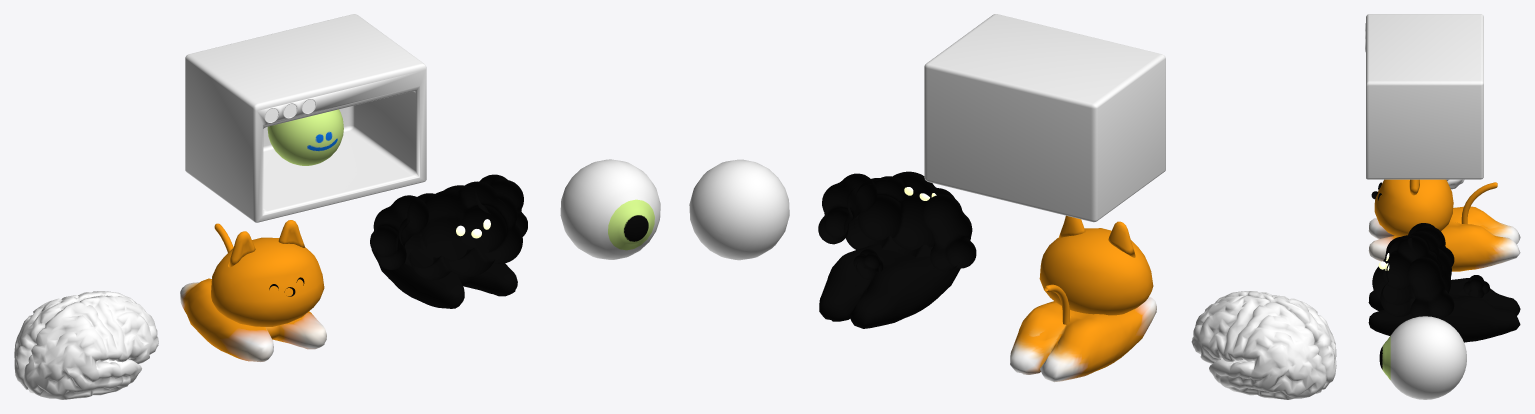
Rendered from web3d.glb.
The picture shows the model from 3 angles, left to right: view 1: azimuth 30°, elevation 25°; view 2: azimuth 150°, elevation 25°; view 3: azimuth 270°, elevation 25°; orthographic projection. The views are drawn at different scales.
Visible parts, largest first — view 1: window, dog, cat, brain, eye; view 2: window, dog, cat, brain, eye; view 3: window, dog, cat, eye.
Part boxes in pixels (bbox=[...]): window: bbox=[185, 14, 426, 222]; dog: bbox=[370, 174, 527, 308]; cat: bbox=[180, 220, 326, 361]; brain: bbox=[14, 291, 158, 399]; eye: bbox=[560, 159, 660, 259]; window: bbox=[924, 14, 1165, 222]; dog: bbox=[818, 171, 976, 328]; cat: bbox=[1010, 215, 1156, 382]; brain: bbox=[1191, 291, 1336, 399]; eye: bbox=[689, 159, 789, 260]; window: bbox=[1365, 14, 1483, 179]; dog: bbox=[1368, 223, 1520, 342]; cat: bbox=[1368, 179, 1520, 271]; eye: bbox=[1379, 316, 1466, 399].
Bounding box in the file's own units: 5.26 × 2.21 × 1.35.
8 materials, 3 textured.
